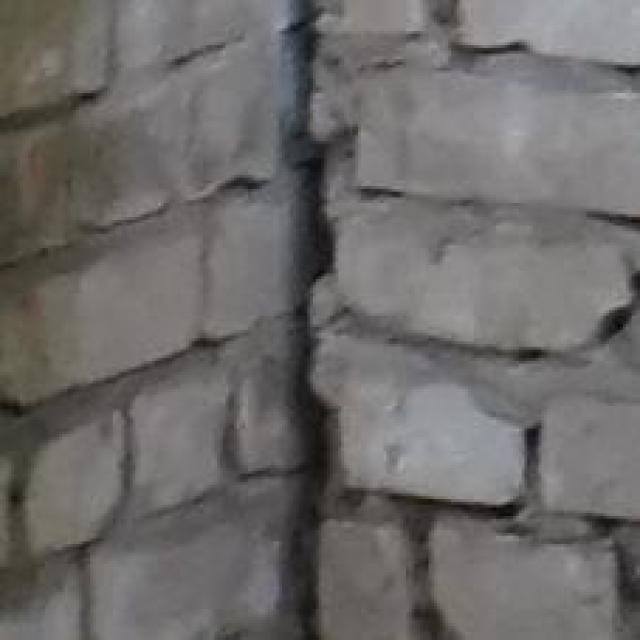Crack: (244, 0, 447, 640)
